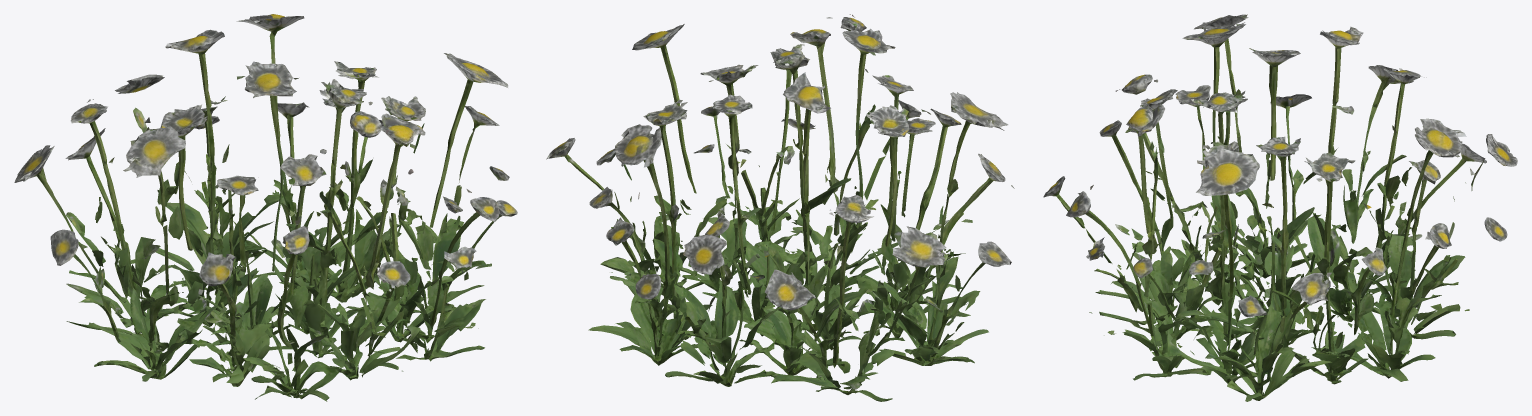
Rendered from meadows_flowers_daisy.glb.
3 renders of one model, left to right at view 1: azimuth 30°, elevation 25°; view 2: azimuth 150°, elevation 25°; view 3: azimuth 270°, elevation 25°, orthographic. The views are drawn at different scales.
Parts seen in each view (by area): view 1: Mesh_0; view 2: Mesh_0; view 3: Mesh_0.
Part boxes in pixels (x1,y1,x2,y2): Mesh_0: (14, 14, 517, 401); Mesh_0: (546, 14, 1014, 401); Mesh_0: (1043, 14, 1517, 401).
Size of the model in its own units: 1.85 by 1.19 by 1.73.
1 material, 1 textured.
